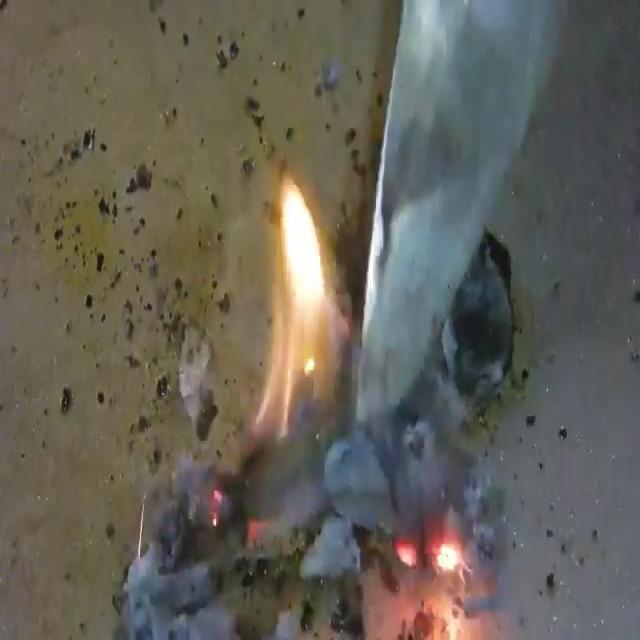Fire: (246, 162, 352, 453)
